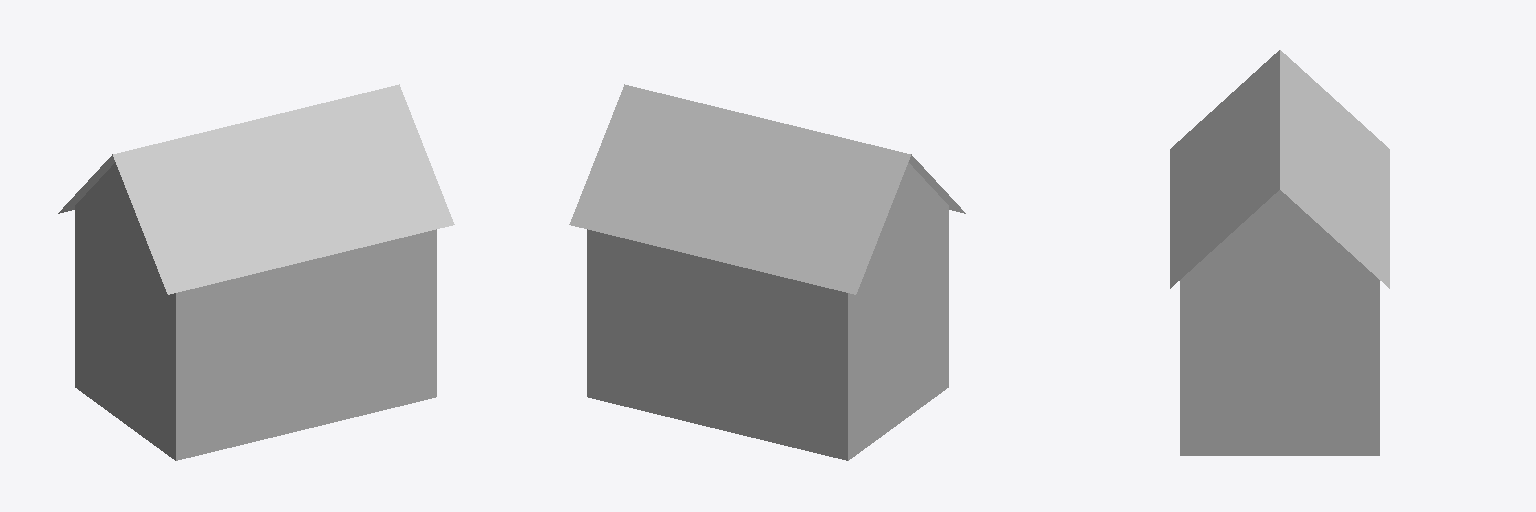
Rendered from house.obj.
3 renders of one model, left to right at view 1: azimuth 30°, elevation 25°; view 2: azimuth 150°, elevation 25°; view 3: azimuth 270°, elevation 25°, orthographic.
Parts seen in each view (by area): view 1: walls, roof; view 2: walls, roof; view 3: walls, roof.
Boxes of the visible parts, x1,y1,x2,y2 form: walls: [75, 162, 436, 460]; roof: [58, 84, 454, 294]; walls: [587, 162, 948, 460]; roof: [569, 84, 965, 294]; walls: [1180, 190, 1379, 455]; roof: [1170, 50, 1389, 288].
Bounding box in the file's own units: 3.3 × 3 × 2.2.